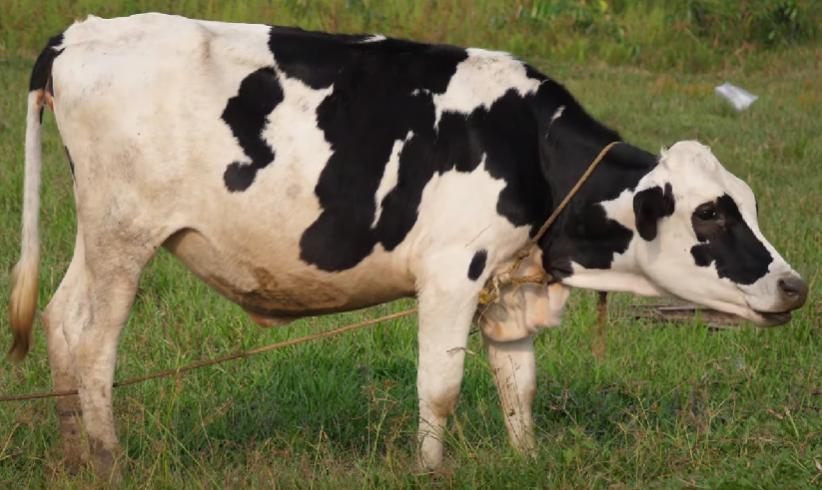cow: (48, 18, 805, 470)
